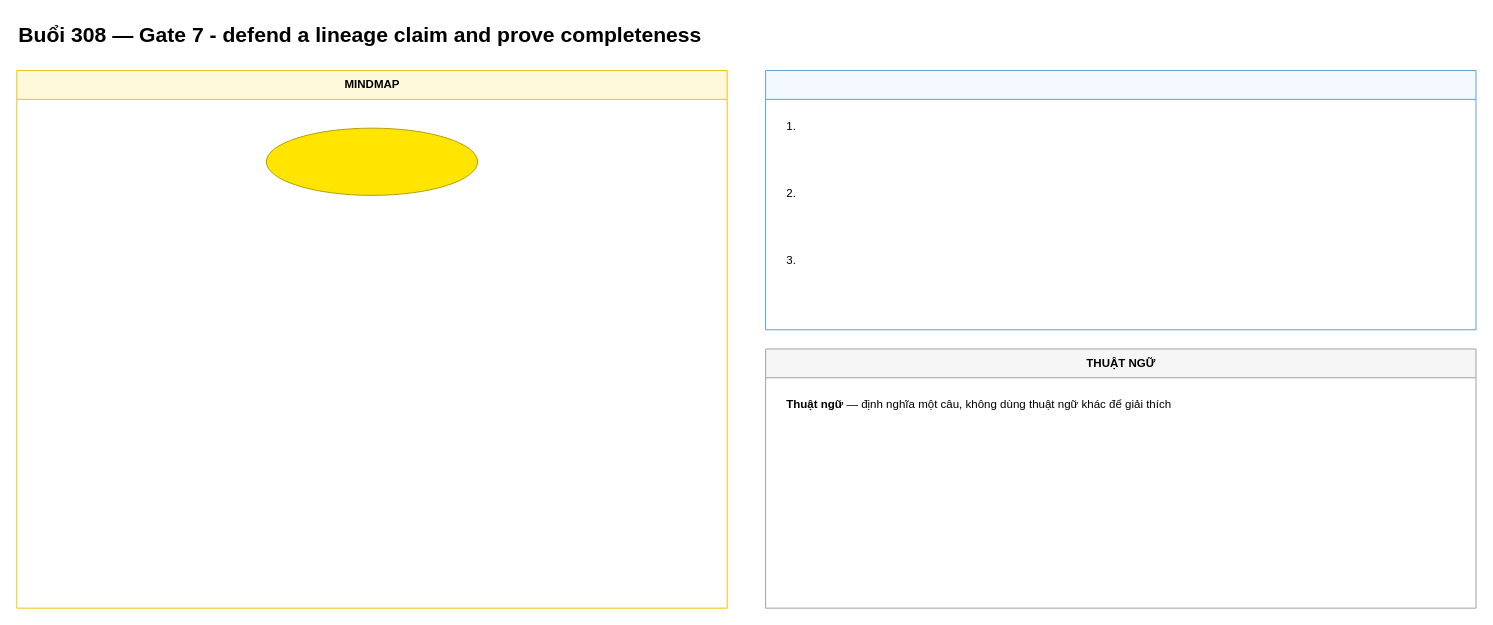
The diagram is 1493 pixels wide and 625 high, and some of its shapes have lost their labels. Each missing label, with the box of its shape:
Gate 7 - defend a lineage claim and prove completeness: (265, 127, 478, 195)
KEY TAKEAWAY — ba điều phải nhớ: (765, 70, 1476, 330)
